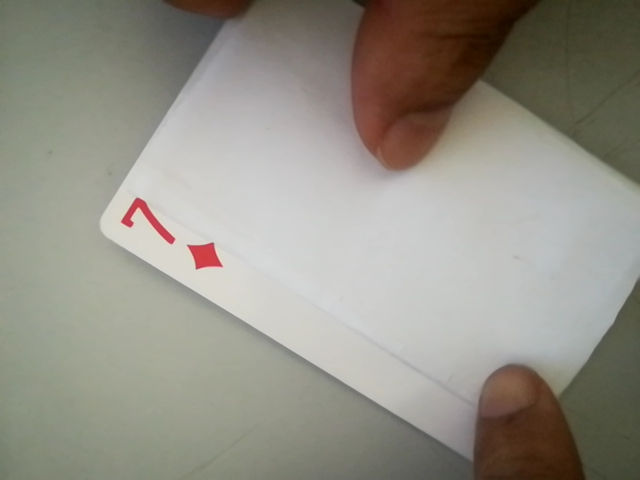fk 7: (108, 192, 238, 274)
